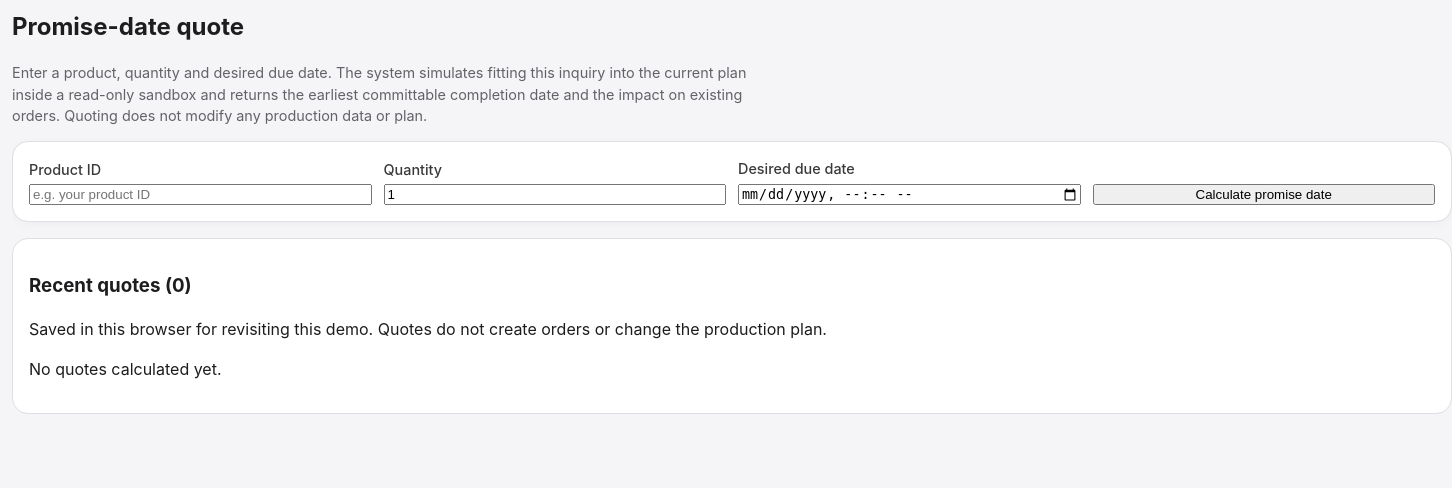
Test: Quote 视图 › 产品不存在时显示 422 原因
The image size is (1452, 488).
In the field labelled "Product ID": {"x": 200, "y": 195} [29,184,372,205], type "PRD-BRACKET"
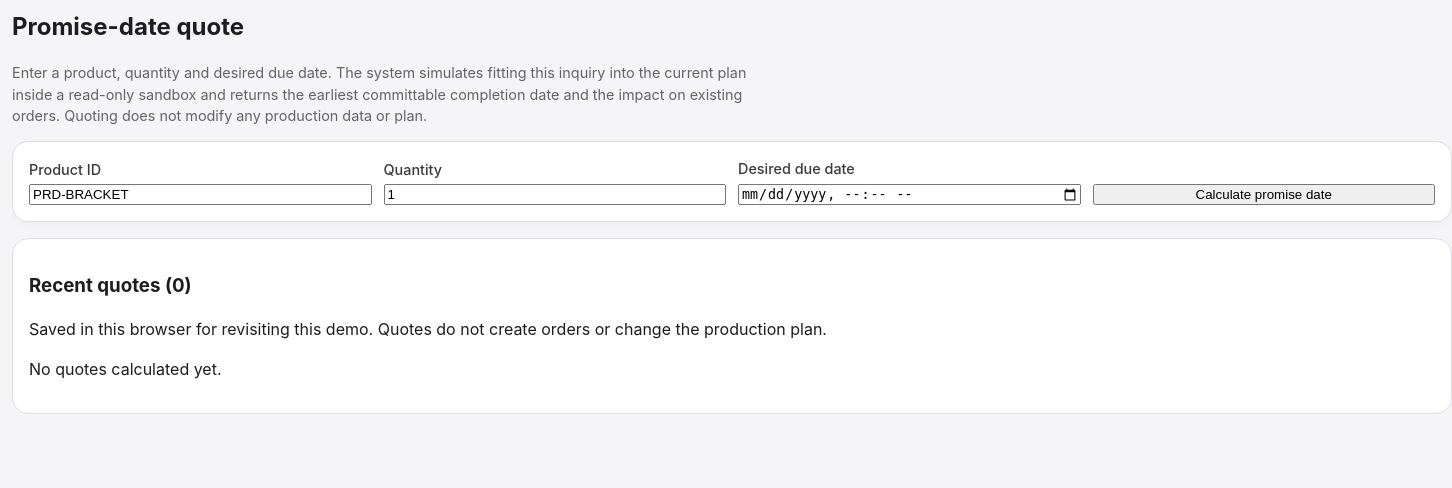
Replace the text in the number field labelled "Quantity" with "3": {"x": 555, "y": 195} [384,184,726,205]
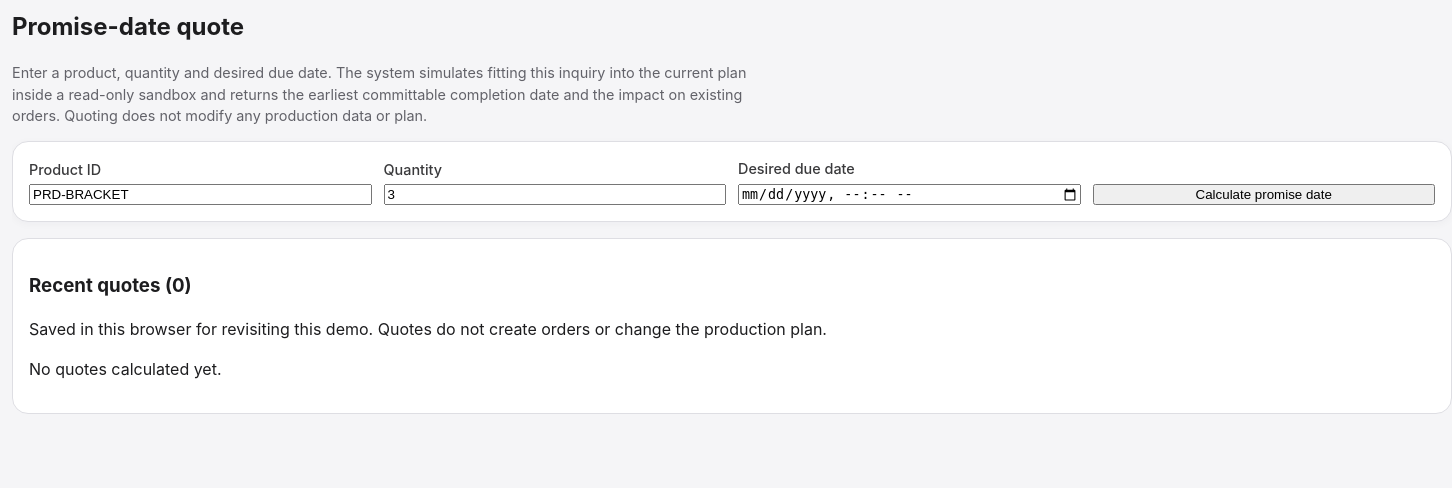
In the field labelled "Desired due date": {"x": 909, "y": 194} [738,184,1080,205], type "2026-03-14T08:00"
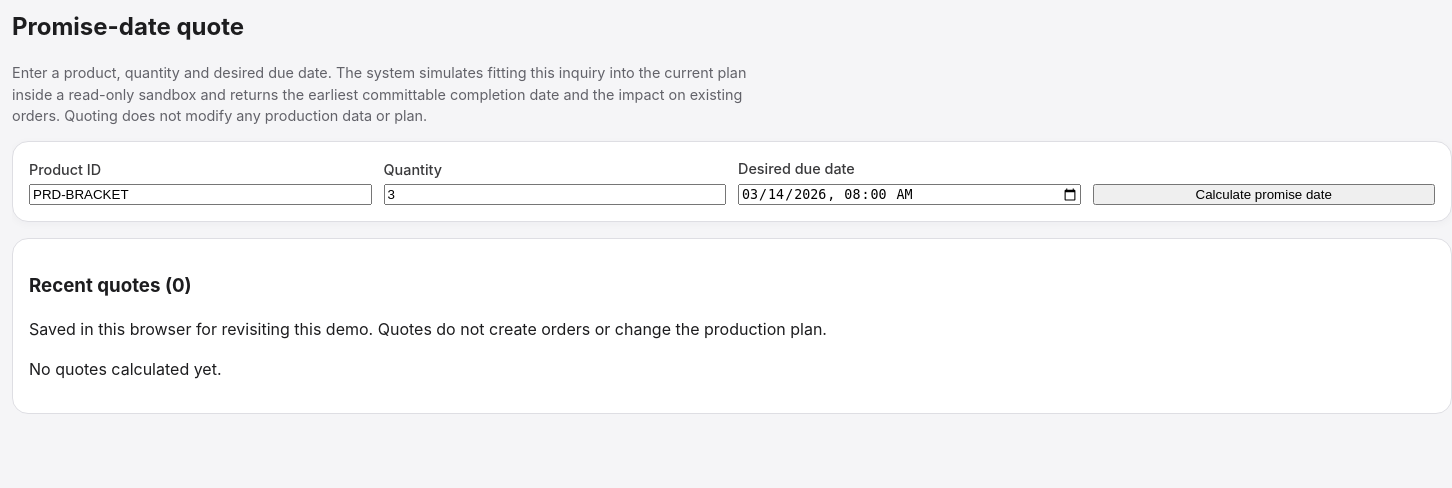
Click the button "Calculate promise date": {"x": 1264, "y": 195} [1092,184,1435,205]
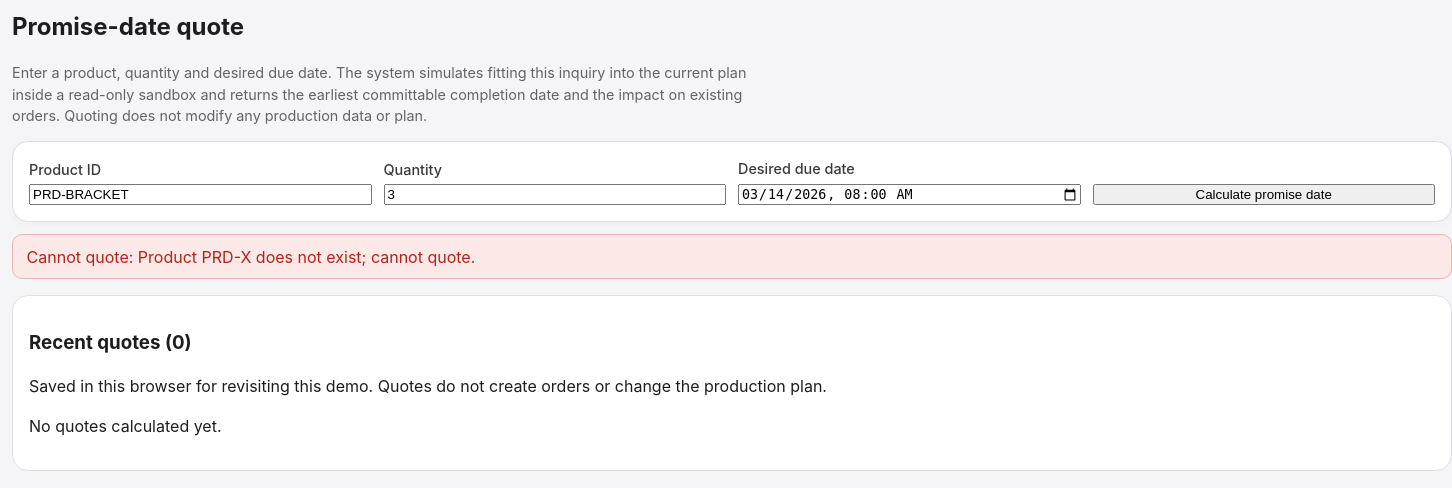
Now the message shows "Cannot quote", box [27,247,475,267]
